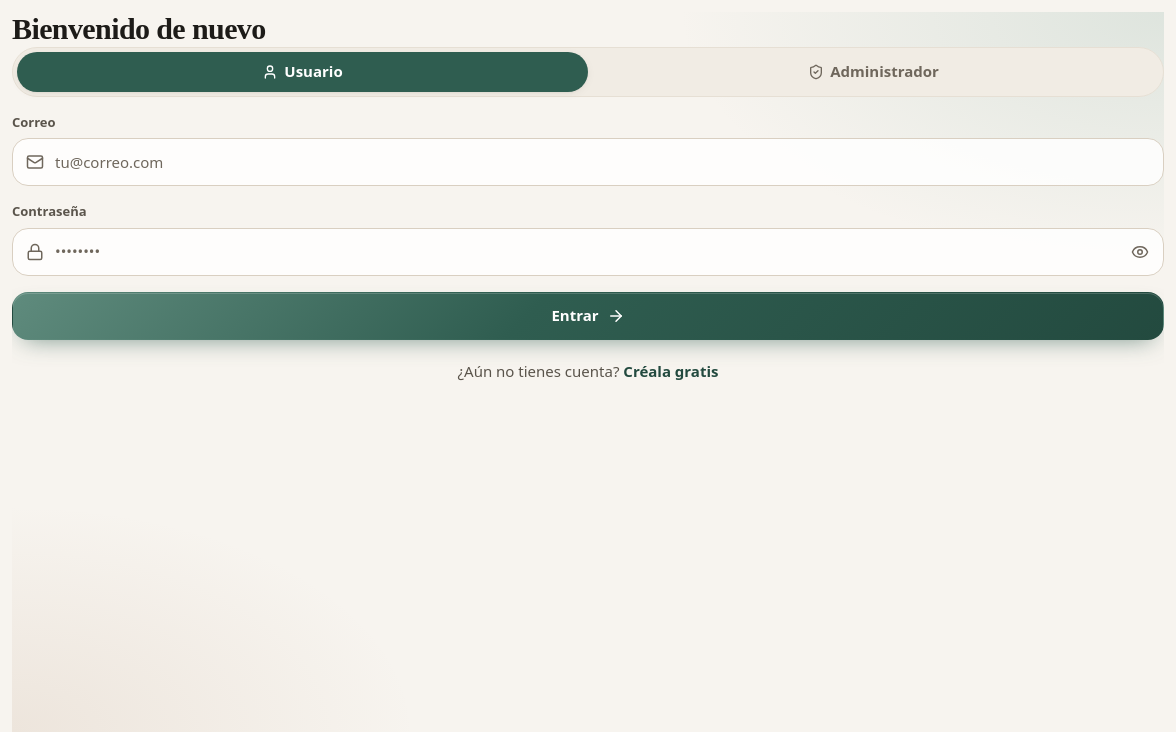
Login page › signs in and opens the home page
Type " ana@correo.com " into the field labelled "Correo" at {"x": 588, "y": 162}, box [12, 138, 1164, 186]
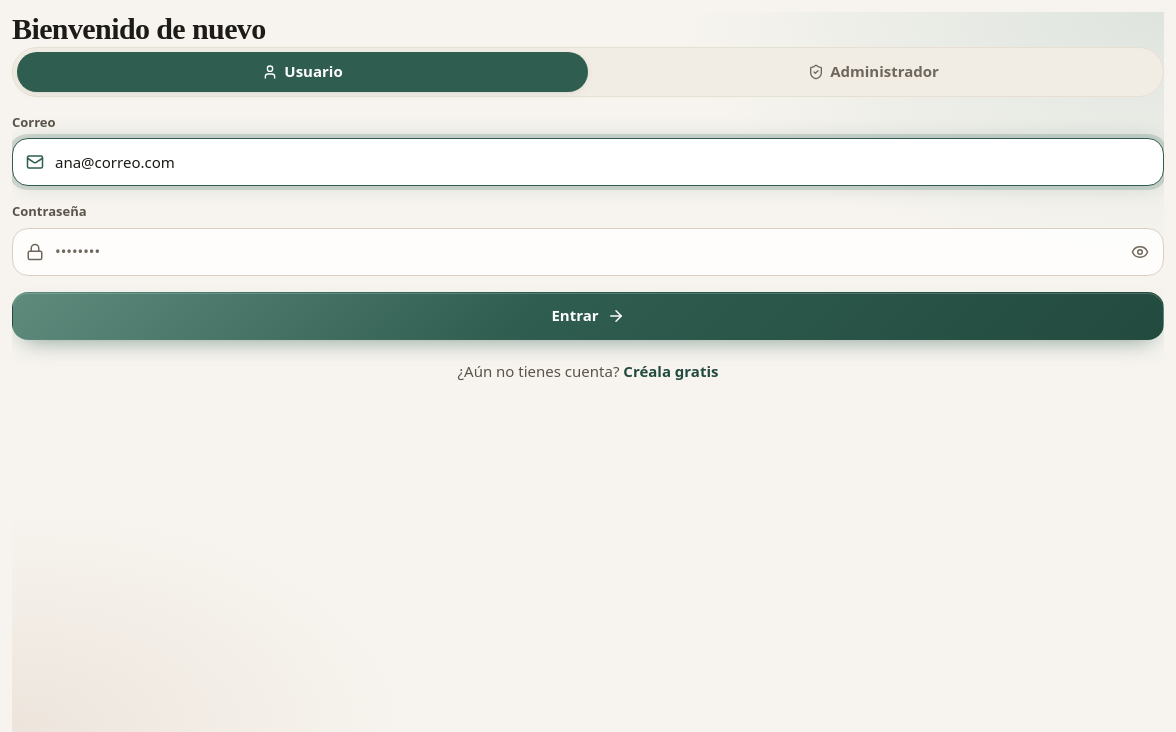
Type "Secreto123" into the password field labelled "Contraseña" at {"x": 588, "y": 252}, box [12, 228, 1164, 276]
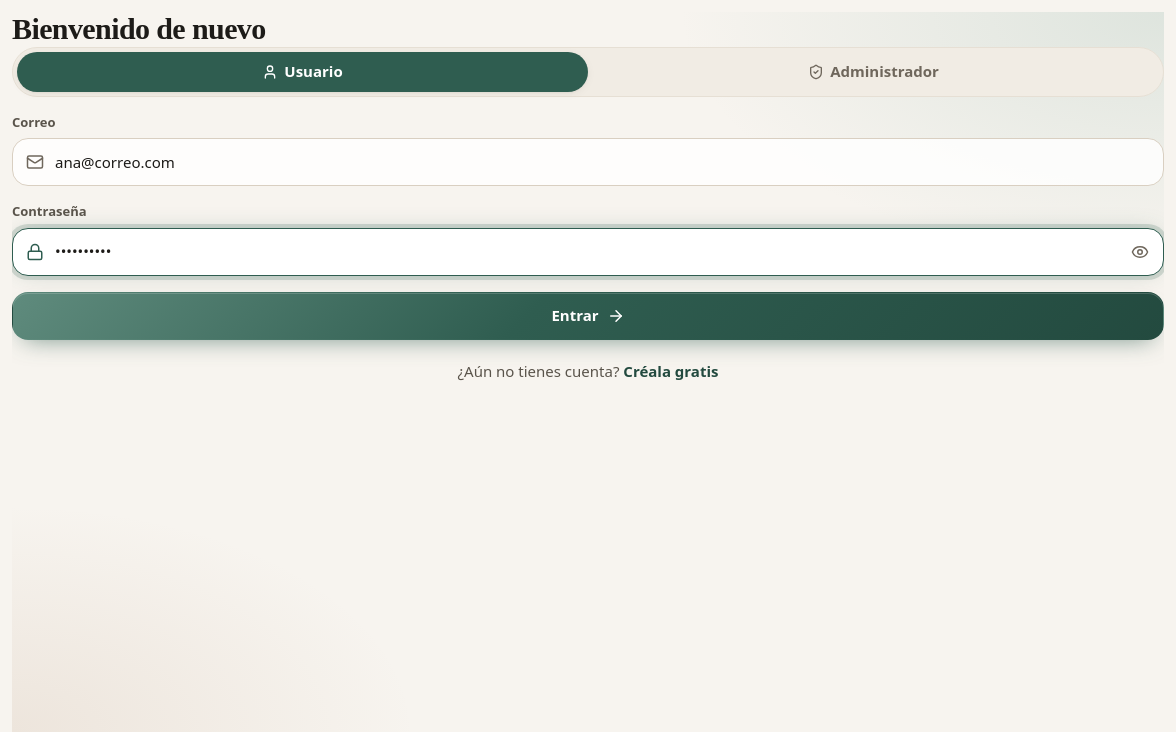
Click the button "Entrar" at {"x": 588, "y": 316}, box [12, 292, 1164, 340]
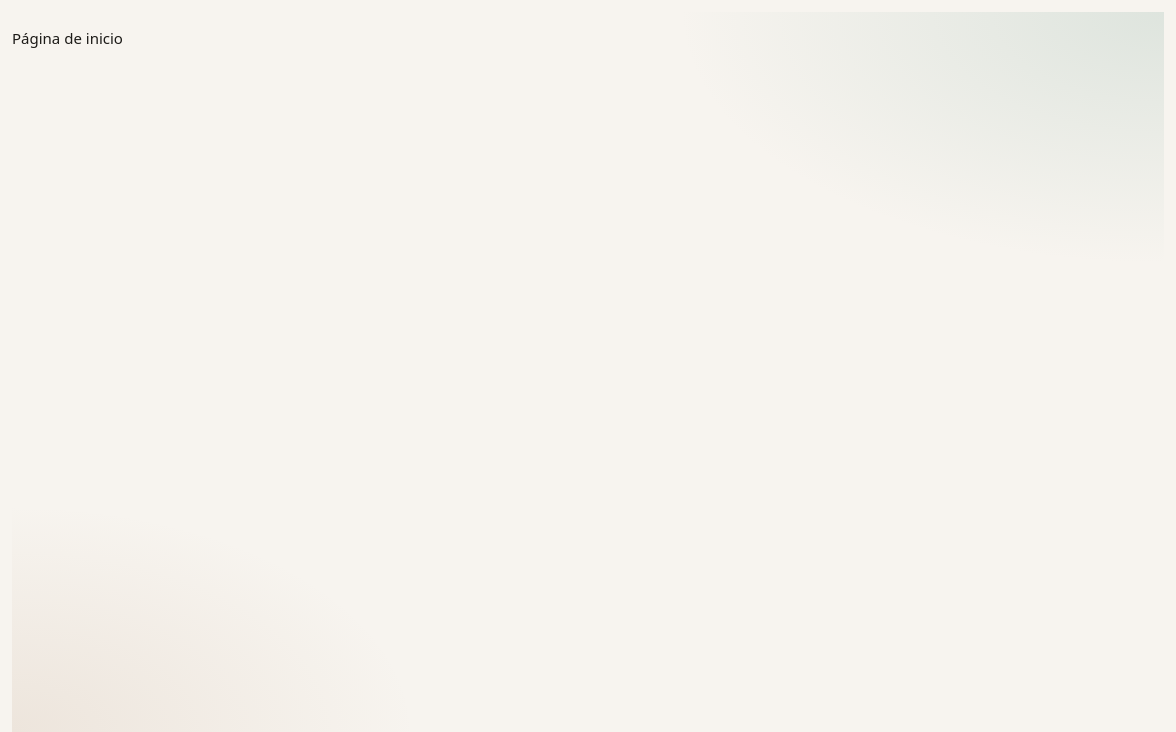
Now the text "Página de inicio" is shown, box [12, 28, 123, 48]
